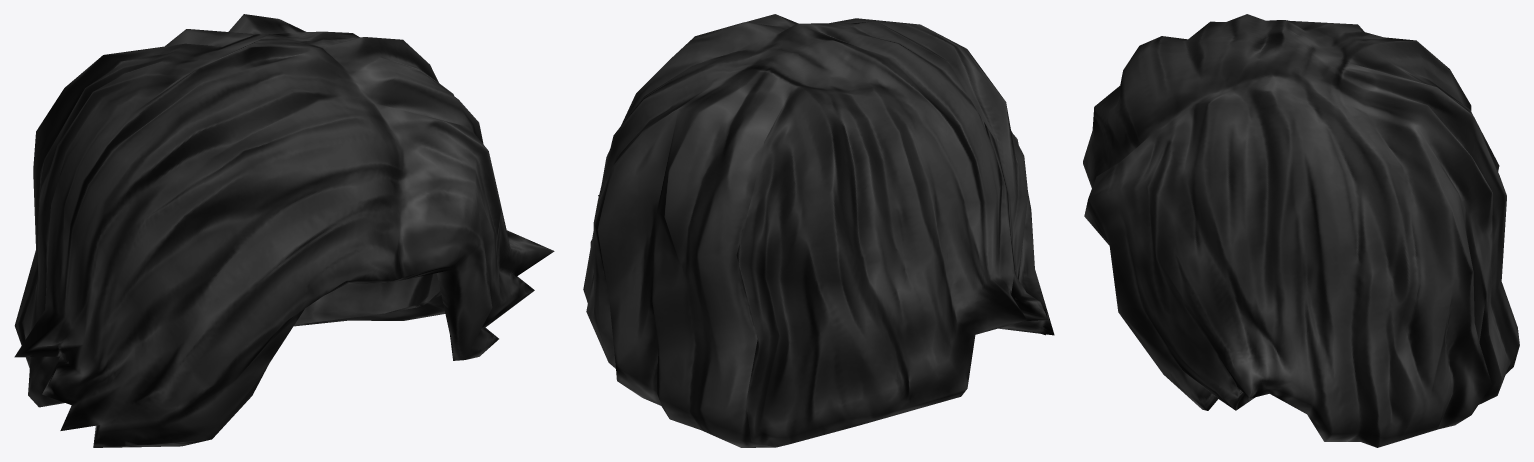
Rendered from AF_M_hair_21.fbx.
The picture shows the model from 3 angles, left to right: view 1: azimuth 30°, elevation 25°; view 2: azimuth 150°, elevation 25°; view 3: azimuth 270°, elevation 25°; orthographic projection. The views are drawn at different scales.
Parts seen in each view (by area): view 1: AF_M_hair_21; view 2: AF_M_hair_21; view 3: AF_M_hair_21.
Part boxes in pixels (x1,y1,x2,y2): AF_M_hair_21: (14, 14, 554, 447); AF_M_hair_21: (583, 14, 1054, 447); AF_M_hair_21: (1083, 14, 1519, 447).
Size of the model in its own units: 985 by 701 by 793.
